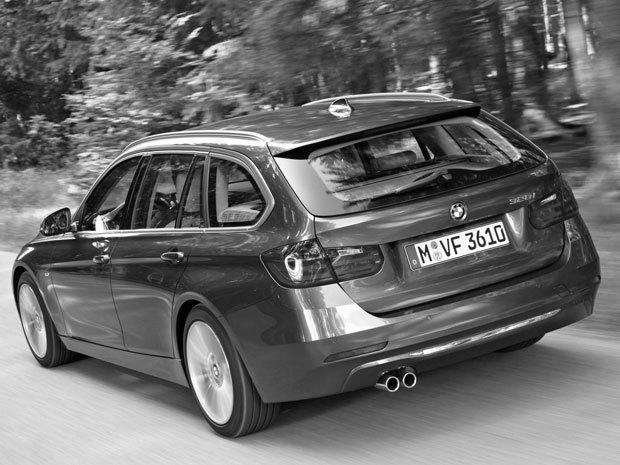car: (1, 79, 609, 453)
